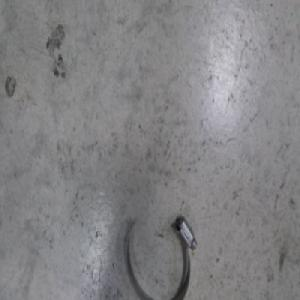AdjustableClamp: (124, 214, 198, 300)
